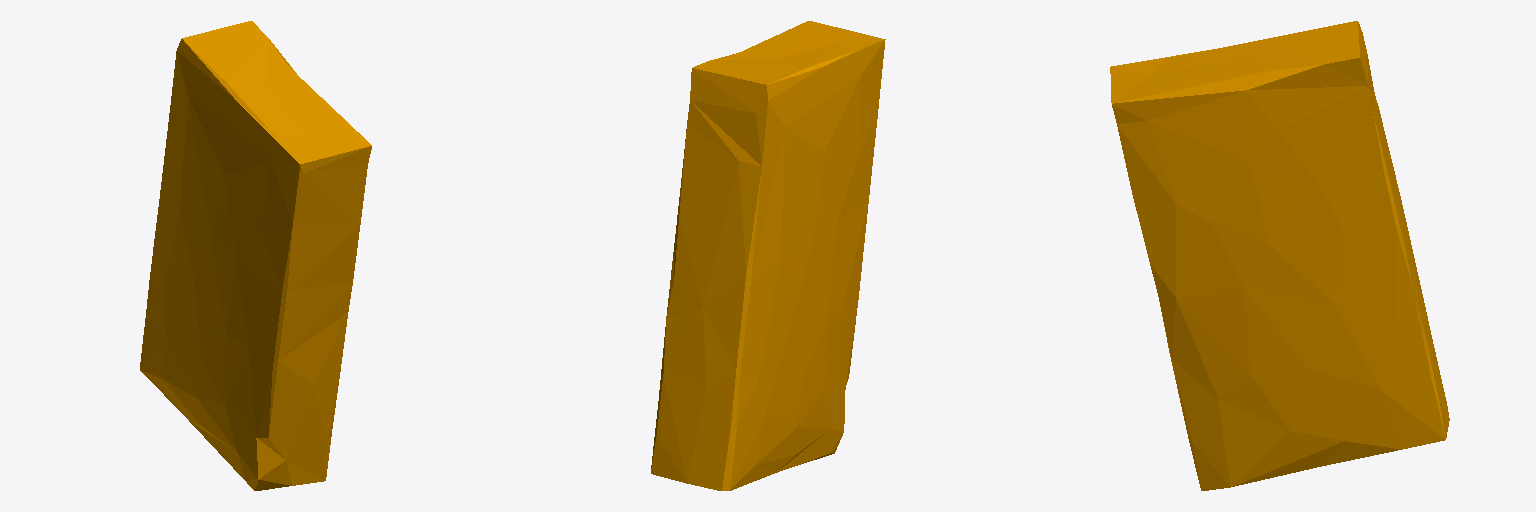
robot.urdf — MilkRice_800_tex:
<?xml version="1.0"?>
<robot name="MilkRice_800_tex">
  <link name="base_link">
    <contact>
      <lateral_friction value="1.0"/>
      <rolling_friction value="0.0"/>
      <contact_cfm value="0.0"/>
      <contact_erp value="1.0"/>
    </contact>
    <inertial>
      <mass value="0.0180256503042"/>
      <inertia ixx="1" ixy="0" ixz="0" iyy="1" iyz="0" izz="1"/>
    </inertial>
    <visual>
      <geometry>
        <mesh filename="MilkRice_800_tex_visual.obj"/>
      </geometry>
    </visual>
    <collision>
      <geometry>
        <mesh filename="MilkRice_800_tex_collision.obj"/>
      </geometry>
    </collision>
  </link>
</robot>

--- Facts derived from the render (not from the file) ---
The picture shows the robot from 3 angles, left to right: view 1: azimuth 30°, elevation 25°; view 2: azimuth 150°, elevation 25°; view 3: azimuth 270°, elevation 25°; orthographic projection.
Robot: MilkRice_800_tex — 1 links, 0 joints (none); root link base_link; default pose: all joints at 0.
Links seen in each view (by area): view 1: base_link; view 2: base_link; view 3: base_link.
Link boxes in pixels (x1,y1,x2,y2): base_link: (140, 21, 371, 490); base_link: (651, 21, 885, 490); base_link: (1110, 21, 1449, 490).
Bounding box of the posed robot: 0.0219 × 0.0676 × 0.0953 m (x, y, z).
Meshes: 1 distinct files referenced, 1 mesh visuals loaded (1 OBJ).